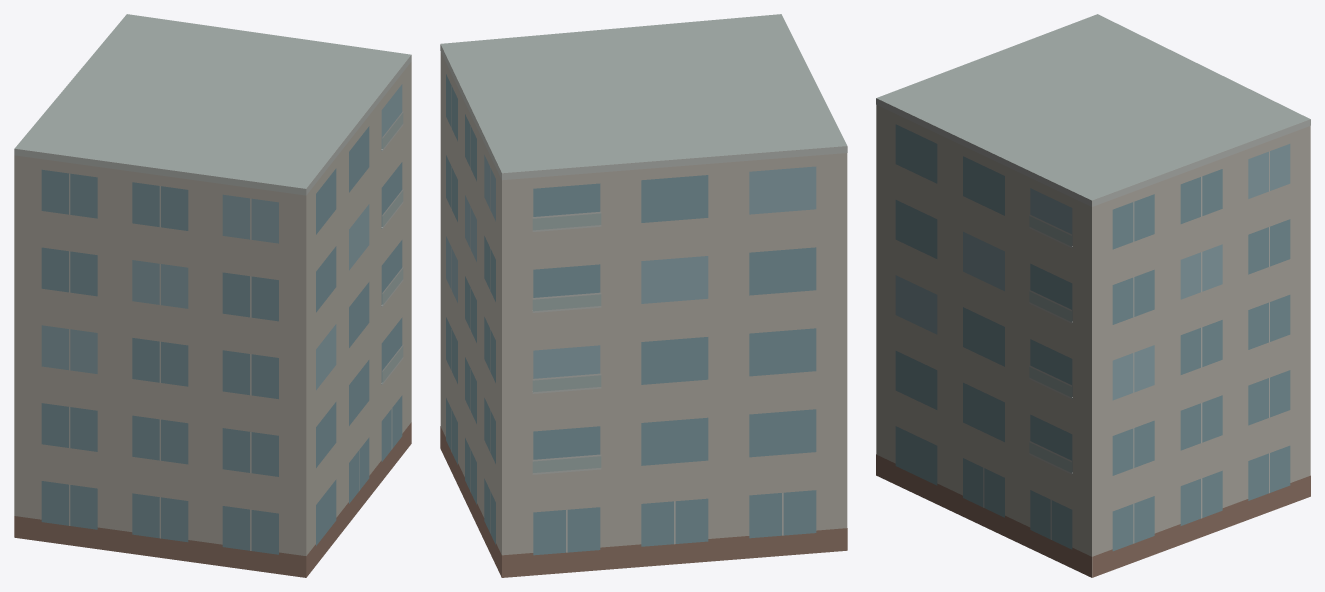
The model's file is survey-upis-32630967.glb.
3 renders of one model, left to right at view 1: azimuth 30°, elevation 25°; view 2: azimuth 150°, elevation 25°; view 3: azimuth 270°, elevation 25°, orthographic. The views are drawn at different scales.
Parts seen in each view (by area): view 1: survey-upis-32630967.tmp; view 2: survey-upis-32630967.tmp; view 3: survey-upis-32630967.tmp.
Part boxes in pixels (x1=…): survey-upis-32630967.tmp: x1=14, y1=14, x2=411, y2=577; survey-upis-32630967.tmp: x1=440, y1=14, x2=847, y2=577; survey-upis-32630967.tmp: x1=876, y1=14, x2=1310, y2=577.
Size of the model in its own units: 15.07 by 14.2 by 14.83.
